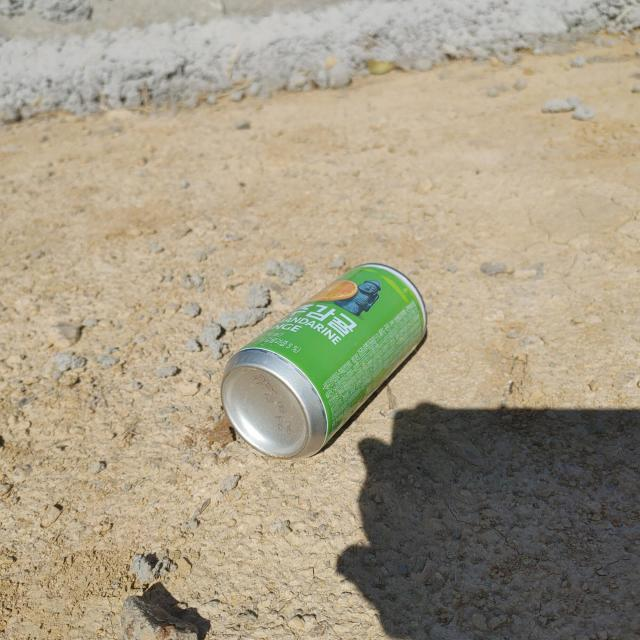can: (221, 263, 427, 458)
